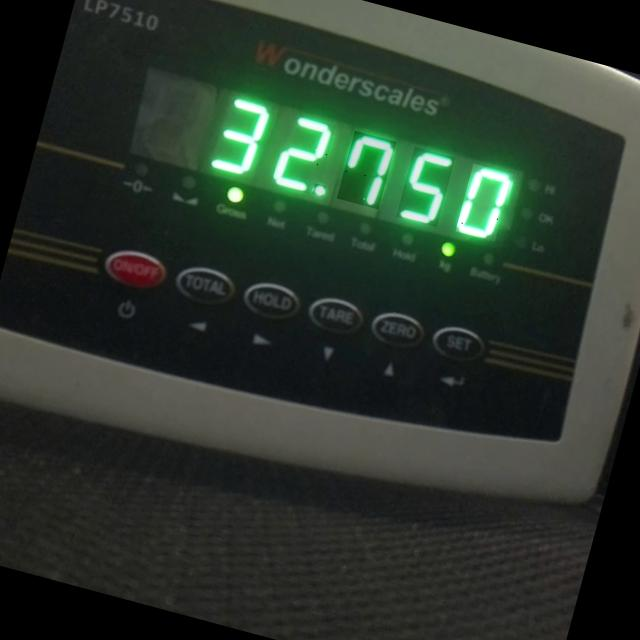.: (312, 183, 325, 196)
0: (455, 163, 514, 242)
2: (271, 113, 336, 196)
3: (210, 94, 272, 178)
5: (396, 147, 455, 227)
7: (336, 131, 396, 210)
